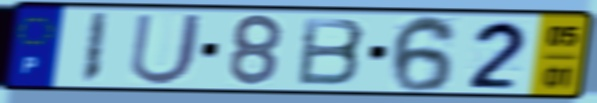2: (462, 16, 532, 93)
6: (389, 12, 462, 95)
8: (228, 12, 285, 89)
B: (294, 15, 369, 88)
I: (77, 10, 112, 86)
U: (126, 11, 207, 88)
